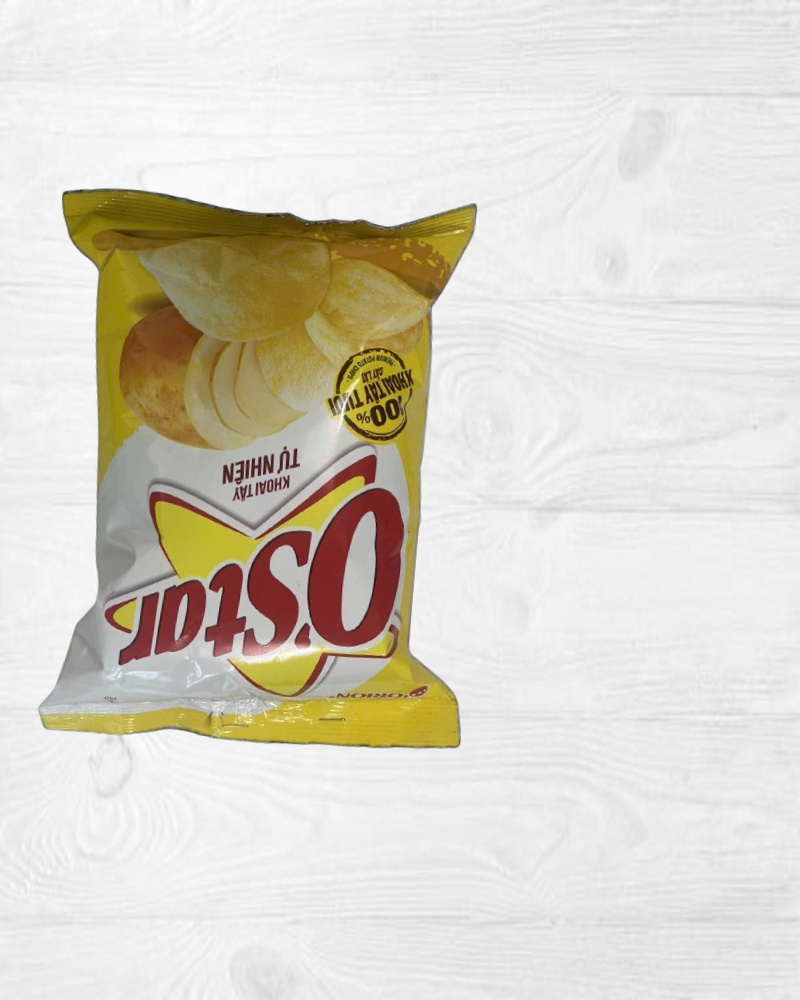Snack cua: (22, 175, 505, 759)
